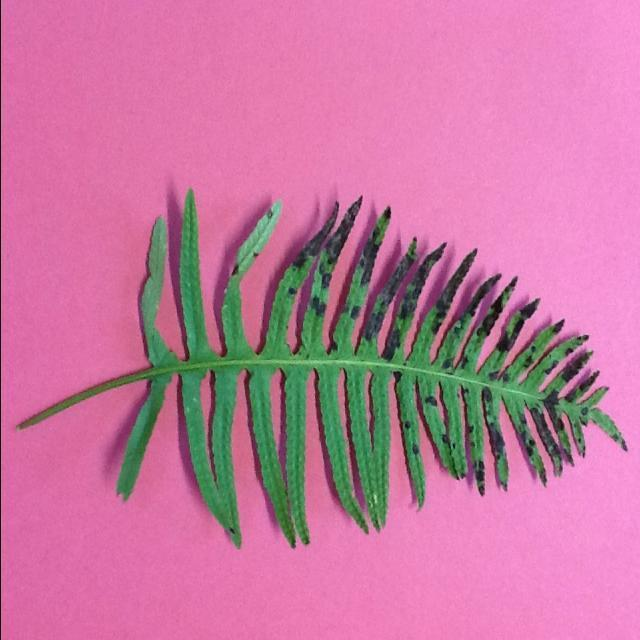foliage: (16, 190, 630, 550)
